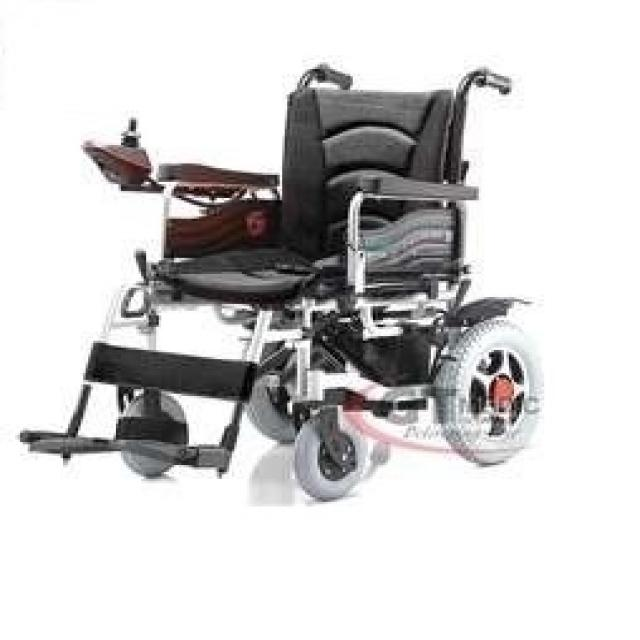wheelchair: (12, 55, 564, 509)
